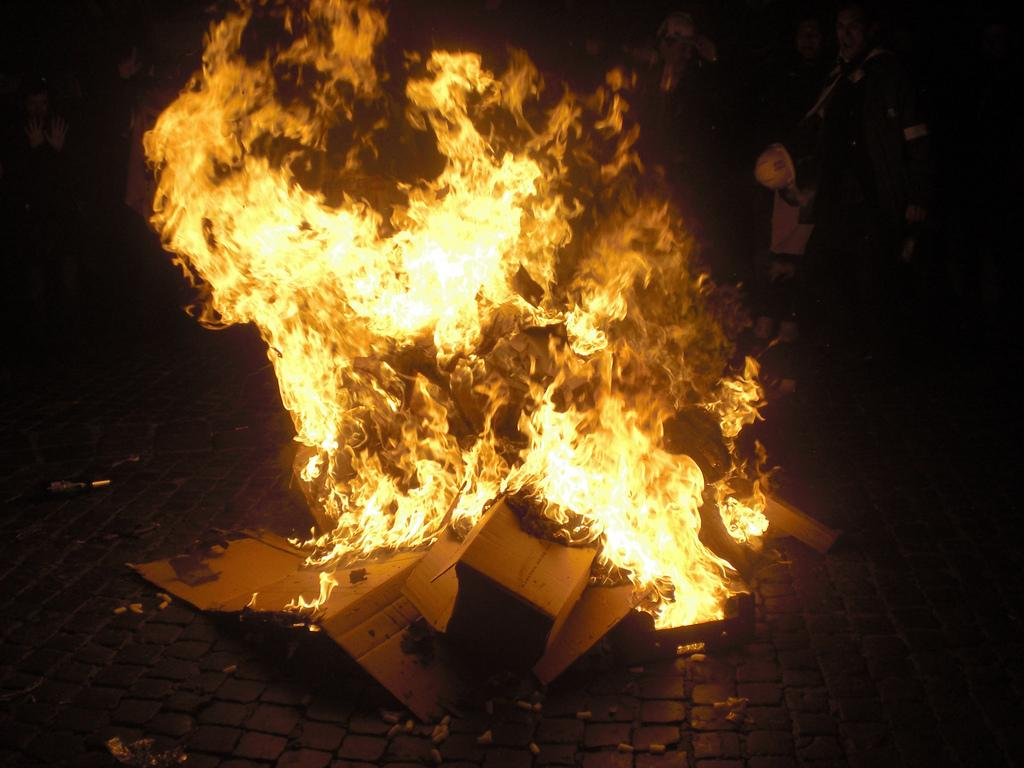fire: (206, 194, 362, 324), (388, 198, 518, 328), (558, 444, 700, 558), (282, 340, 344, 442)
